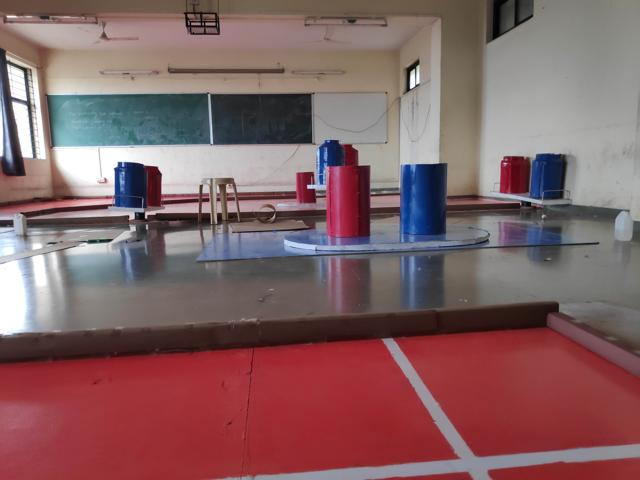Blue: (402, 163, 445, 234), (114, 161, 147, 207), (532, 155, 566, 197), (315, 142, 344, 164)
Red: (325, 165, 371, 237), (499, 157, 530, 195), (148, 166, 162, 211), (298, 173, 314, 202)
